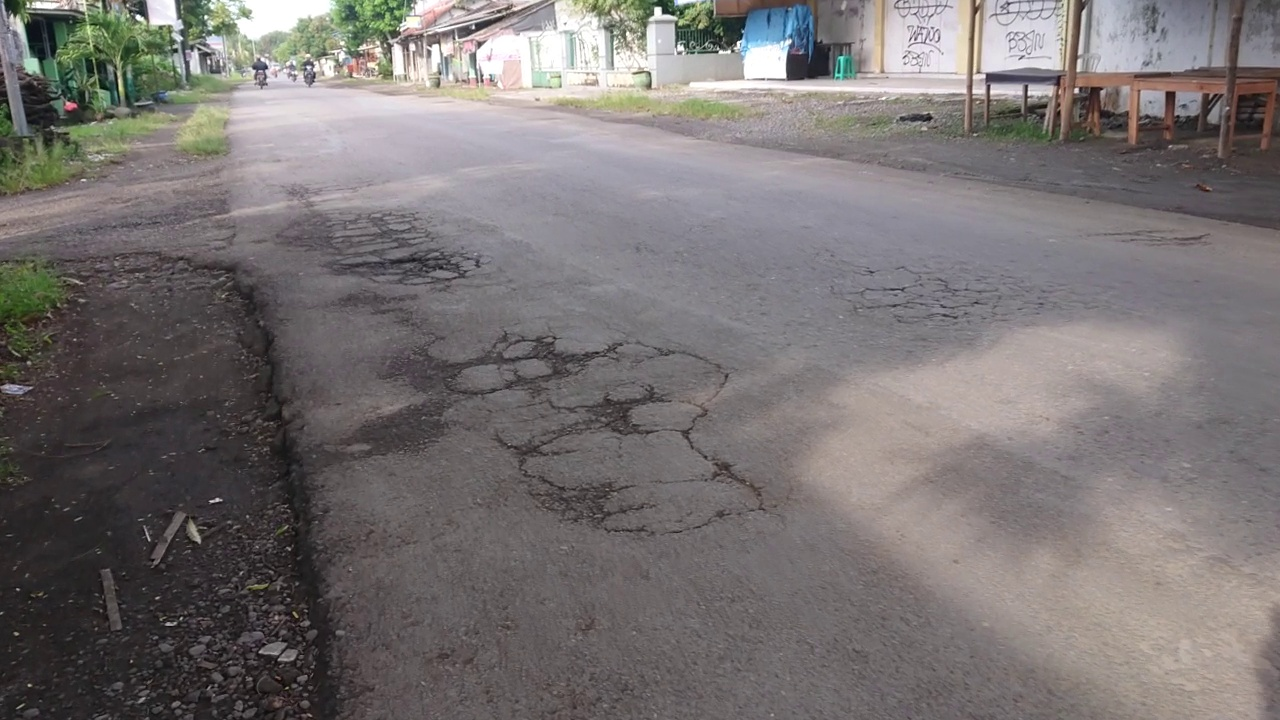Retak: (432, 342, 741, 524), (292, 214, 483, 305), (849, 256, 1015, 349)
